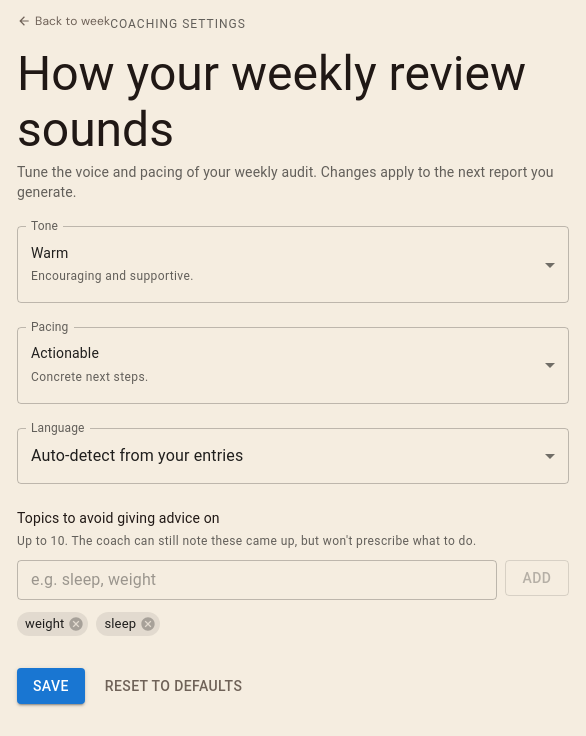
Test: SettingsPage › PATCHes all-null on Reset and re-applies the returned defaults
Expected: the text "weight" is shown, [25,616,64,631]
What coordinates should you click on to do the following:
click the button "Reset to defaults"
I would click on:
 (174, 686)
Its box is [97,668,250,704].
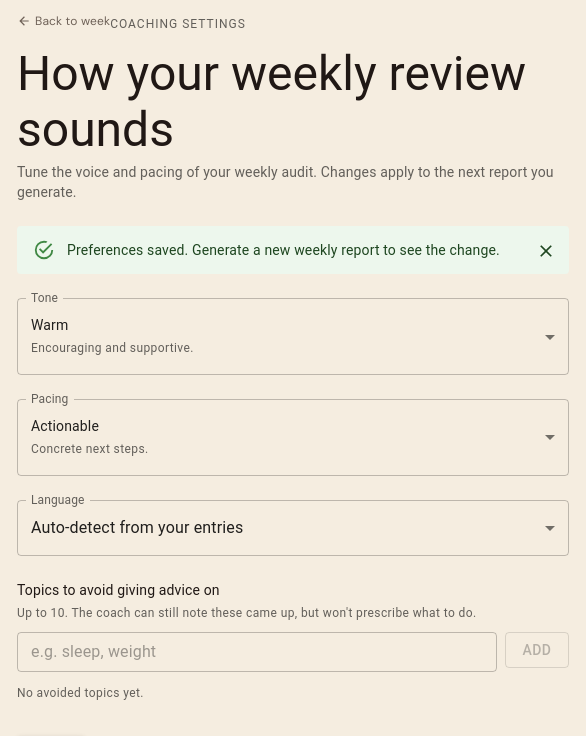
Expected: the text "No avoided topics yet." is shown, [17,684,144,704]
